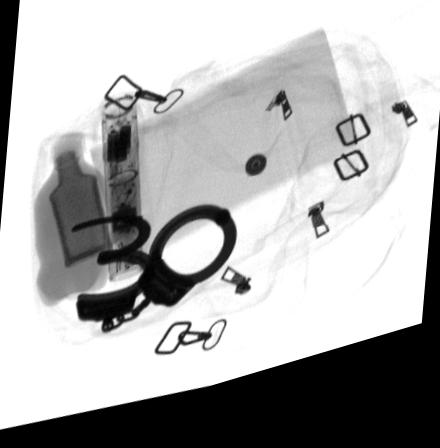Baton: (99, 99, 144, 289)
HandCuffs: (67, 215, 238, 340)
